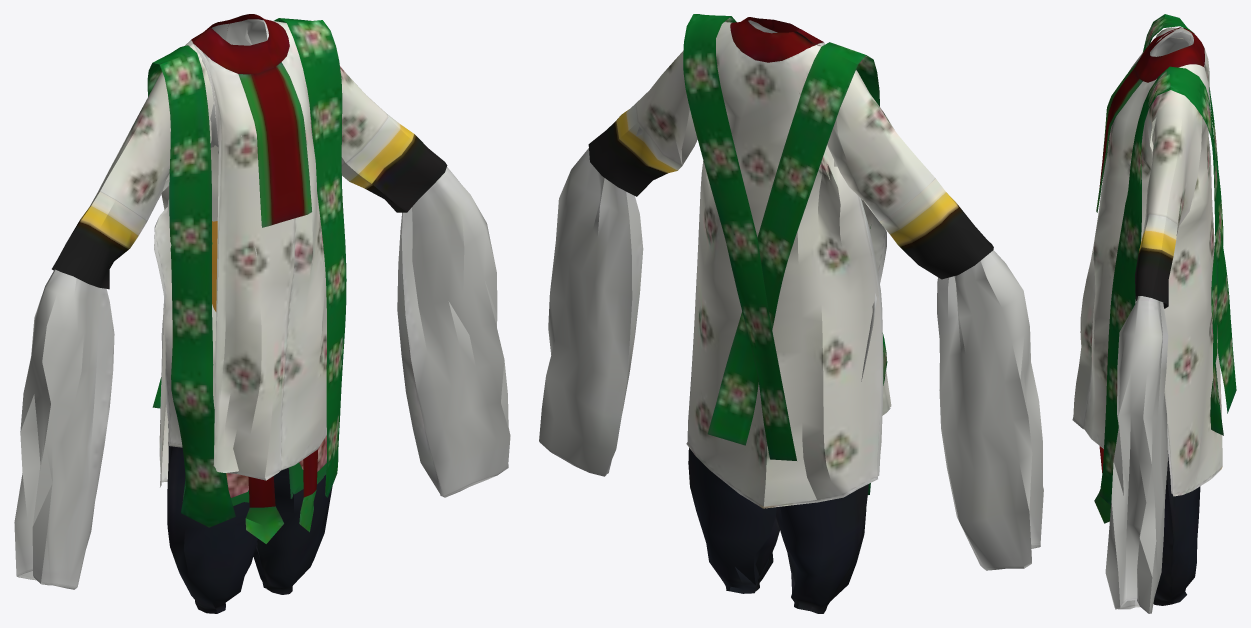
Rendered from cl_cheoyongmu.glb.
The picture shows the model from 3 angles, left to right: view 1: azimuth 30°, elevation 25°; view 2: azimuth 150°, elevation 25°; view 3: azimuth 270°, elevation 25°; orthographic projection. The views are drawn at different scales.
Parts seen in each view (by area): view 1: polySurface59_lambert2_0; view 2: polySurface59_lambert2_0; view 3: polySurface59_lambert2_0.
Part boxes in pixels (box(x1,y1,x2,y2)): polySurface59_lambert2_0: box(14, 14, 510, 613); polySurface59_lambert2_0: box(539, 14, 1043, 613); polySurface59_lambert2_0: box(1072, 14, 1236, 613).
Size of the model in its own units: 1.41 by 1.6 by 0.4331.
Materials: 1 (1 with a texture image).
